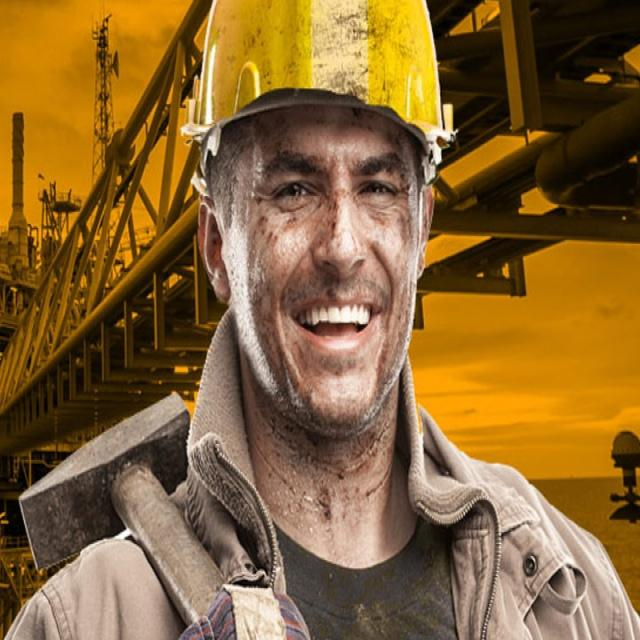helmet: (181, 3, 445, 577)
